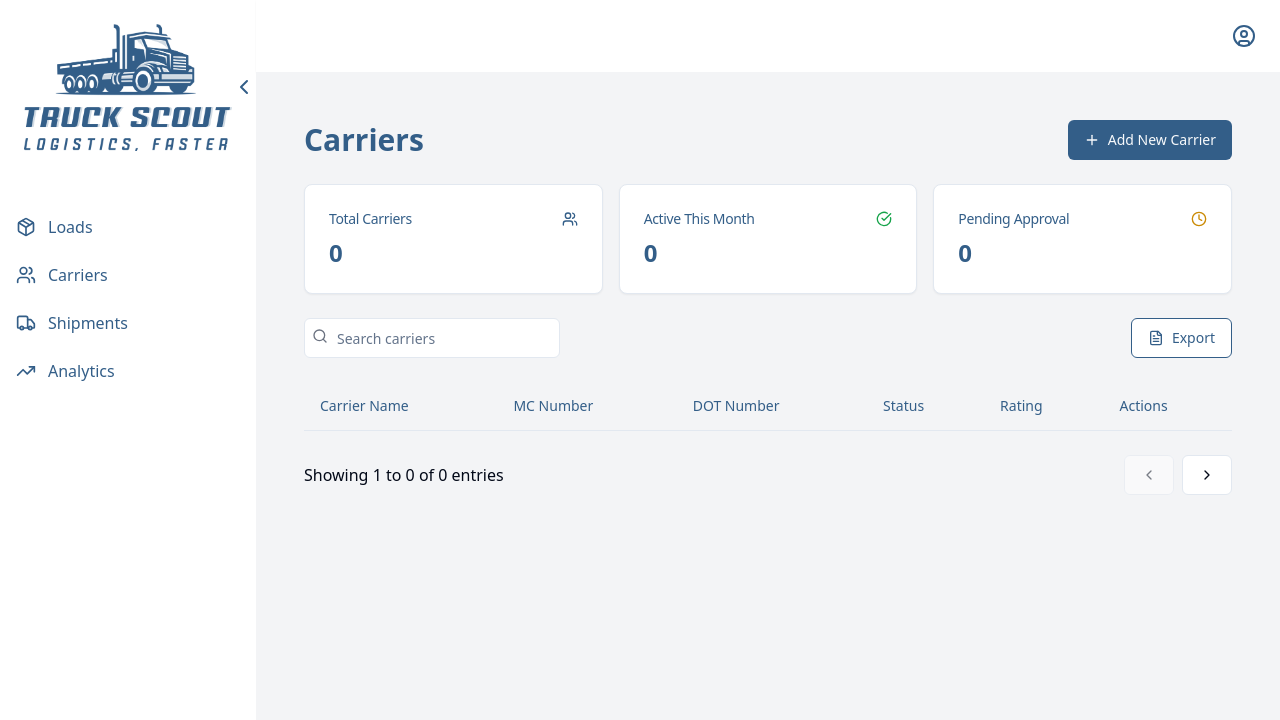
Scenario: Carriers Page › opens the add carrier dialog when clicking the add button
Click the button with test id "add-carrier-button": [1150, 140] box [1068,120,1232,160]
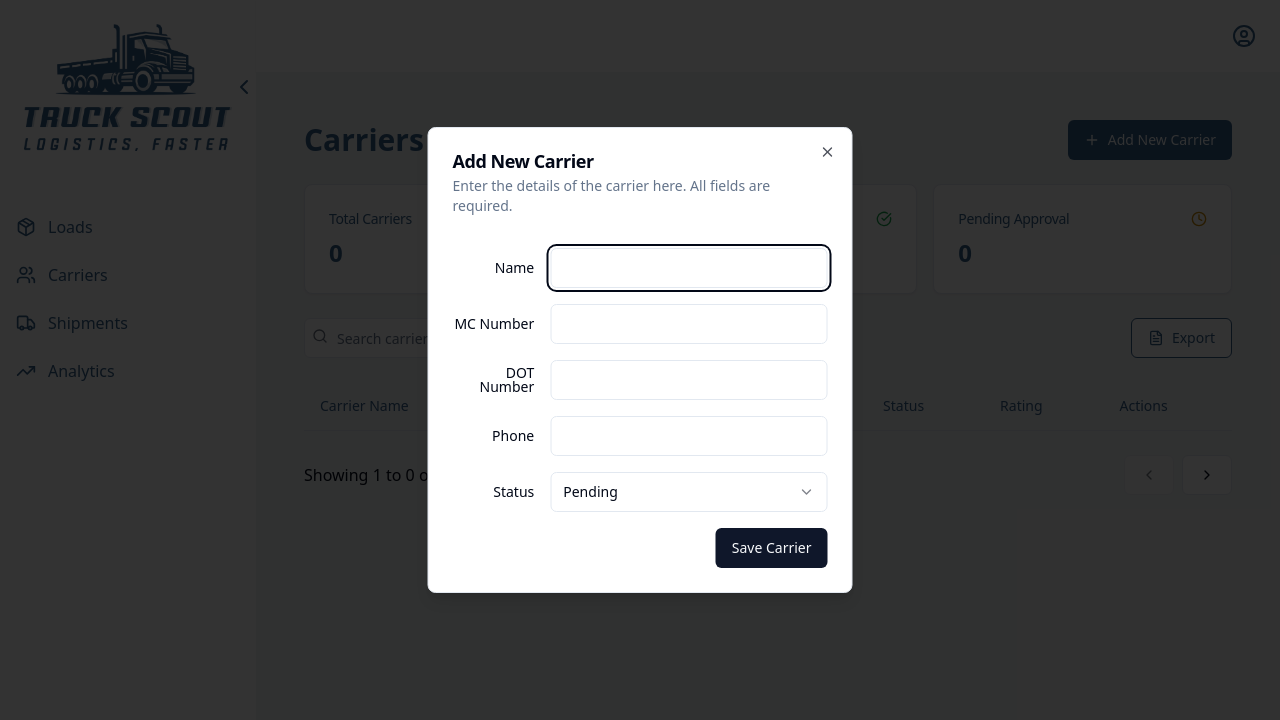
Now the heading with test id "carrier-dialog-title" reads "Add New Carrier", box [453,149,594,173]
